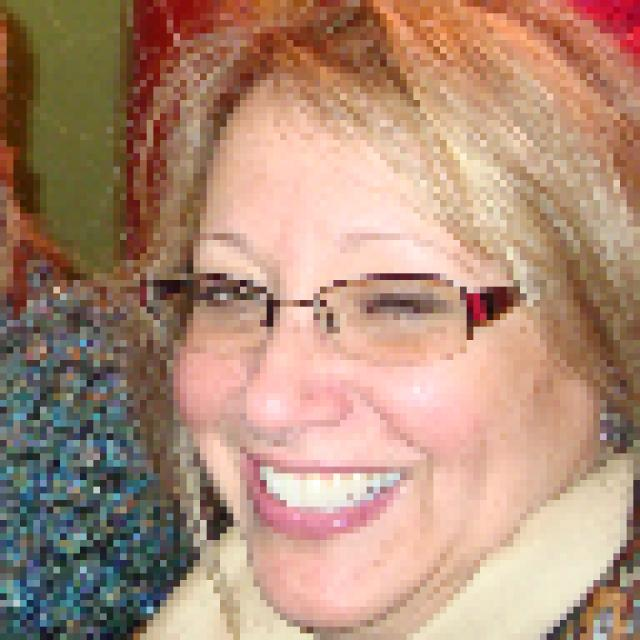Happy: (129, 10, 617, 630)
